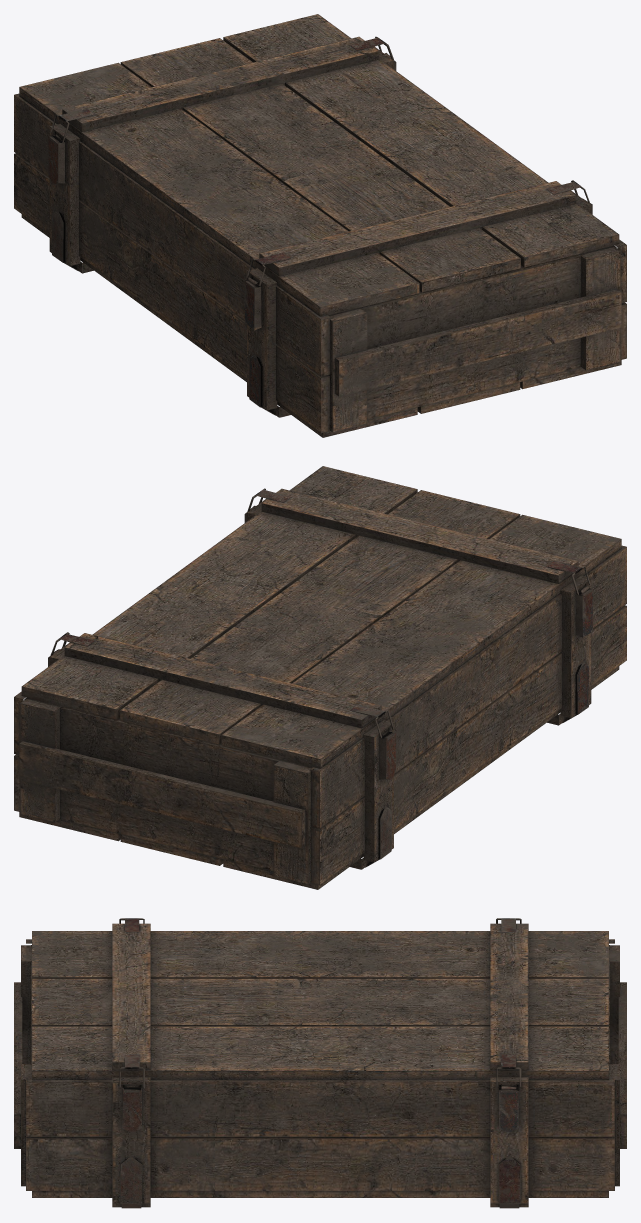
Rendered from SM_AmmoCrate_02.glb.
3 renders of one model, top to bottom at view 1: azimuth 30°, elevation 25°; view 2: azimuth 150°, elevation 25°; view 3: azimuth 270°, elevation 25°, orthographic. The views are drawn at different scales.
Visible parts, largest first — view 1: SM_AmmoCrate_02; view 2: SM_AmmoCrate_02; view 3: SM_AmmoCrate_02.
Part boxes in pixels (box(x1,y1,x2,y2)): SM_AmmoCrate_02: box(14, 14, 626, 437); SM_AmmoCrate_02: box(14, 466, 626, 889); SM_AmmoCrate_02: box(14, 918, 626, 1208).
Bounding box in the file's own units: 0.6775 × 0.2923 × 1.11.
Materials: 1 (1 with a texture image).
